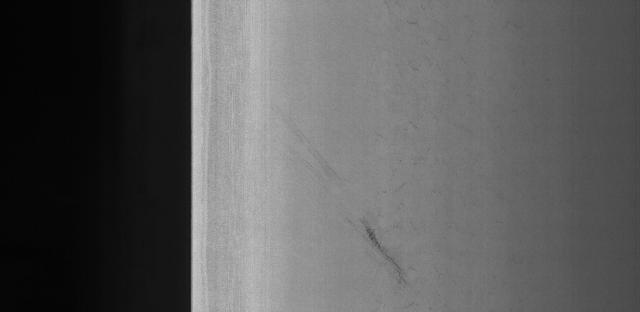silk_spot: (377, 16, 516, 192)
water_spot: (350, 211, 427, 295)
